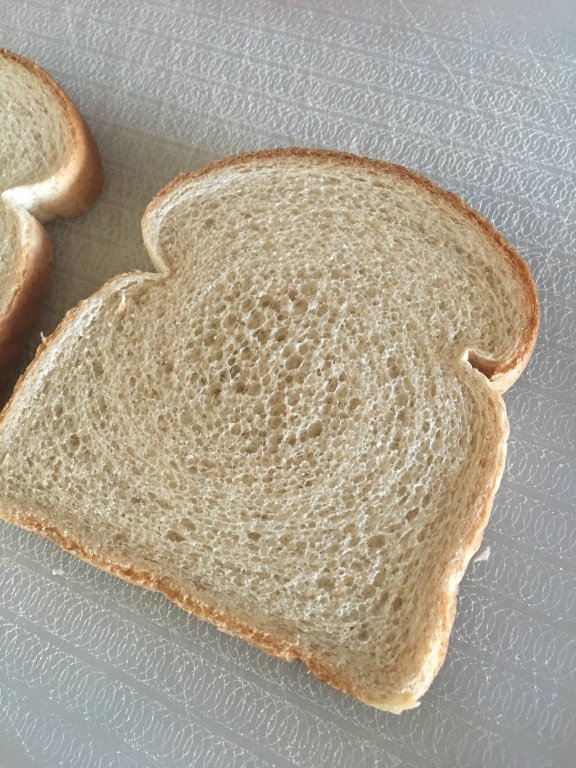slice of bread: (1, 149, 538, 722)
